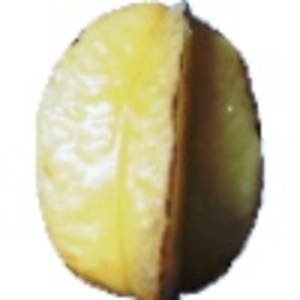carambola: (34, 1, 267, 300)
